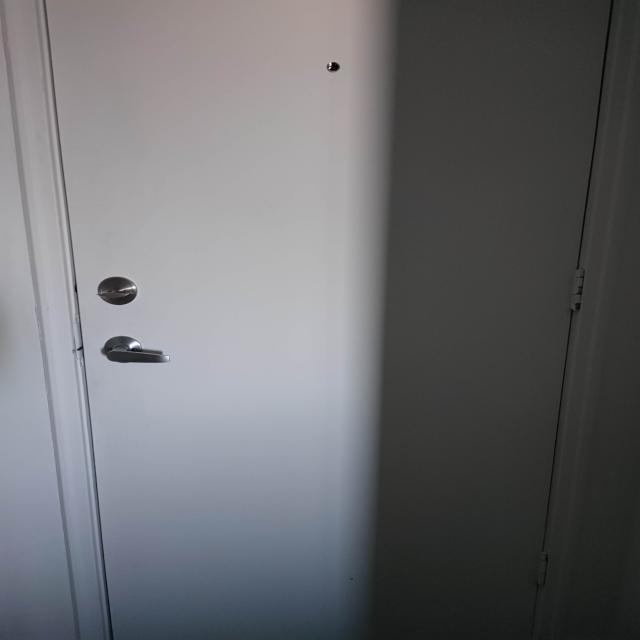door-handle: (103, 336, 170, 362)
